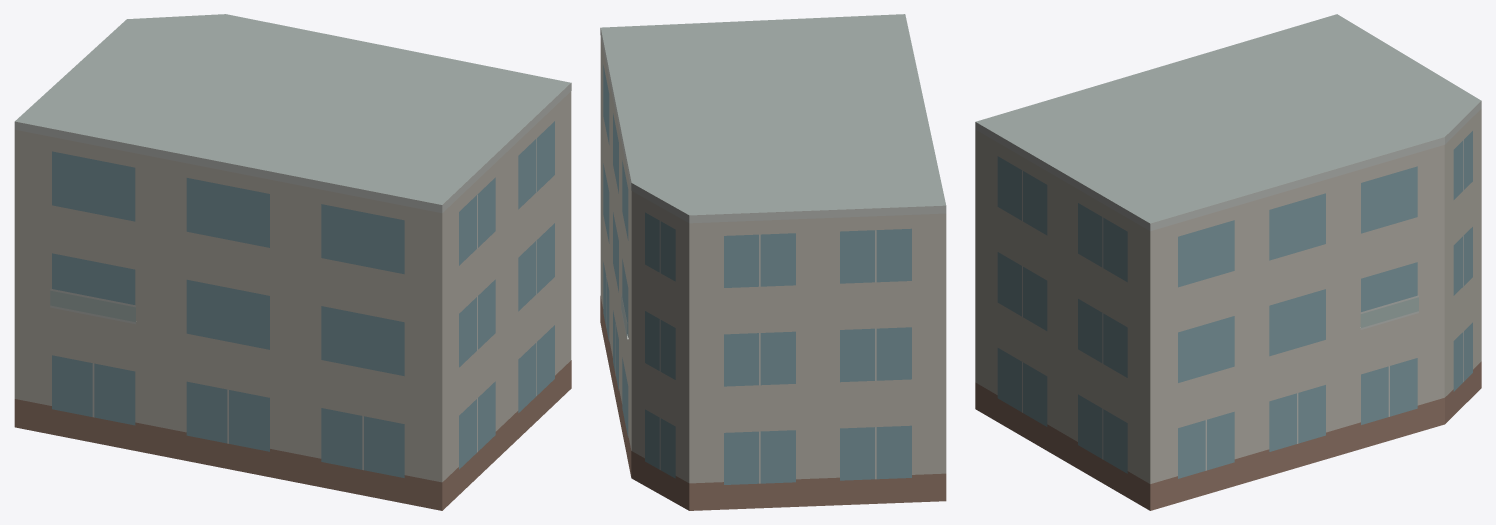
Rendered from survey-upis-32905360.glb.
3 renders of one model, left to right at view 1: azimuth 30°, elevation 25°; view 2: azimuth 150°, elevation 25°; view 3: azimuth 270°, elevation 25°, orthographic. The views are drawn at different scales.
Parts seen in each view (by area): view 1: survey-upis-32905360.tmp; view 2: survey-upis-32905360.tmp; view 3: survey-upis-32905360.tmp.
Boxes of the visible parts, x1,y1,x2,y2 form: survey-upis-32905360.tmp: [14, 14, 571, 510]; survey-upis-32905360.tmp: [600, 14, 946, 510]; survey-upis-32905360.tmp: [975, 14, 1481, 510].
Bounding box in the file's own units: 14.33 × 9.15 × 14.62.
